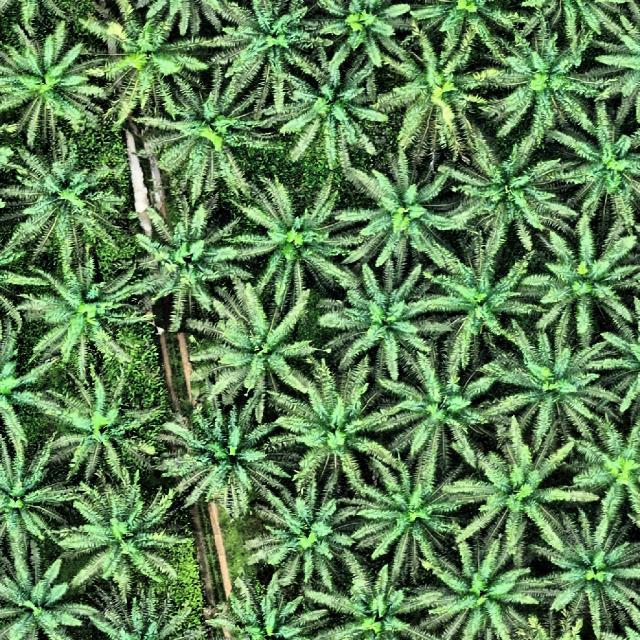Kelapa_Sawit: (280, 366, 390, 494), (36, 256, 147, 378), (9, 142, 118, 266), (200, 286, 316, 400), (80, 479, 182, 602), (158, 80, 262, 194), (425, 245, 531, 355), (538, 512, 640, 626), (506, 336, 605, 447), (174, 407, 278, 512), (2, 35, 98, 148), (538, 220, 632, 334), (458, 139, 561, 242), (281, 59, 381, 164), (372, 459, 467, 569), (46, 382, 152, 479), (333, 266, 433, 368), (353, 167, 452, 269), (436, 540, 536, 640), (105, 22, 211, 116), (142, 224, 244, 320), (474, 448, 570, 550), (250, 196, 353, 288), (556, 108, 640, 218), (402, 50, 489, 156), (504, 40, 590, 140), (400, 359, 484, 456), (573, 421, 640, 532), (231, 1, 314, 90), (0, 452, 67, 562), (2, 556, 82, 640), (270, 500, 352, 577), (82, 590, 187, 640), (426, 1, 520, 56), (325, 0, 411, 59), (222, 581, 308, 640), (339, 579, 418, 640), (530, 1, 630, 46), (611, 10, 640, 106)
